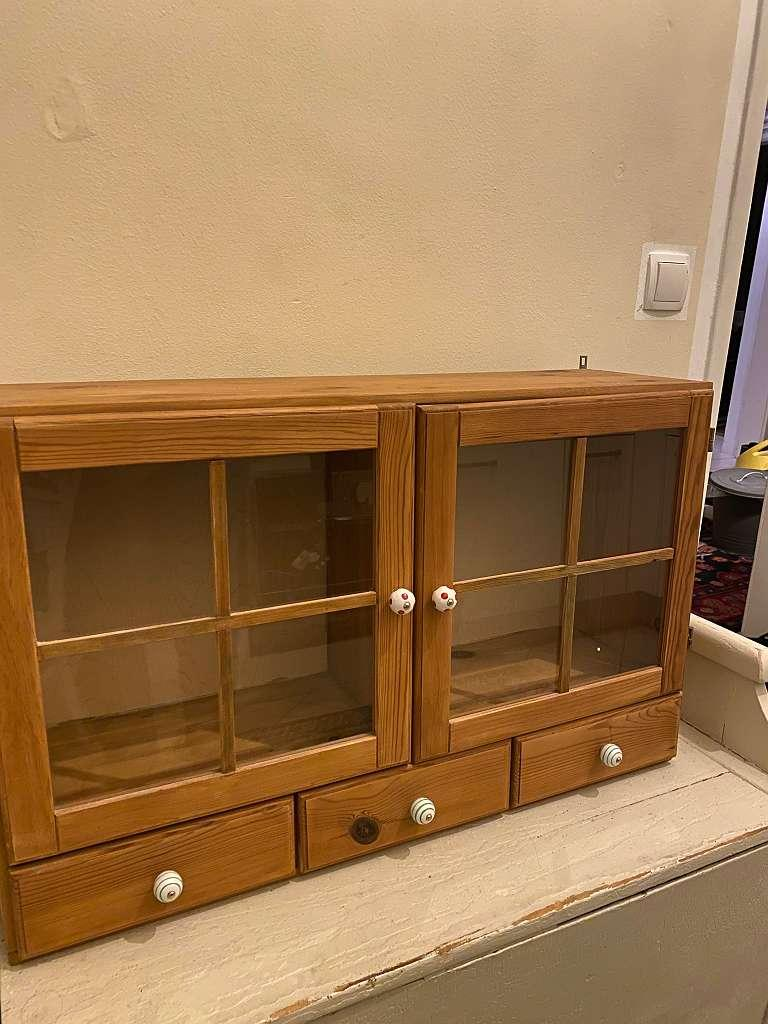cabinet_door: (0, 414, 411, 796), (417, 412, 687, 720), (14, 826, 293, 943), (308, 761, 506, 855), (522, 721, 675, 792)
handle: (151, 865, 190, 915), (409, 793, 444, 837), (431, 578, 458, 621), (390, 585, 414, 629), (599, 740, 624, 774)
